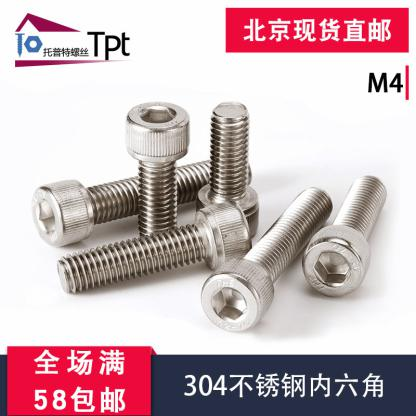FOD: (200, 184, 334, 337), (29, 154, 234, 249), (55, 201, 252, 296), (301, 173, 387, 299), (123, 101, 192, 248), (195, 100, 261, 240)
